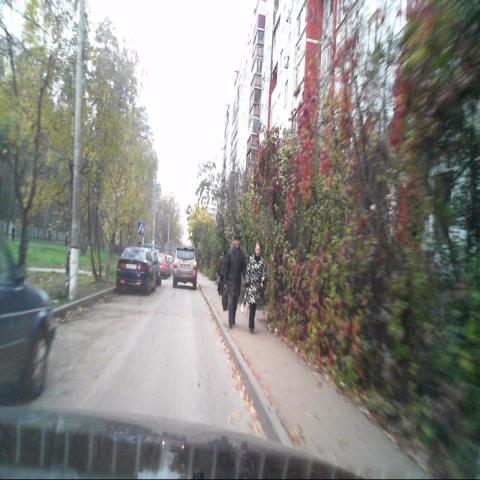5_19_1: (138, 221, 145, 235)
